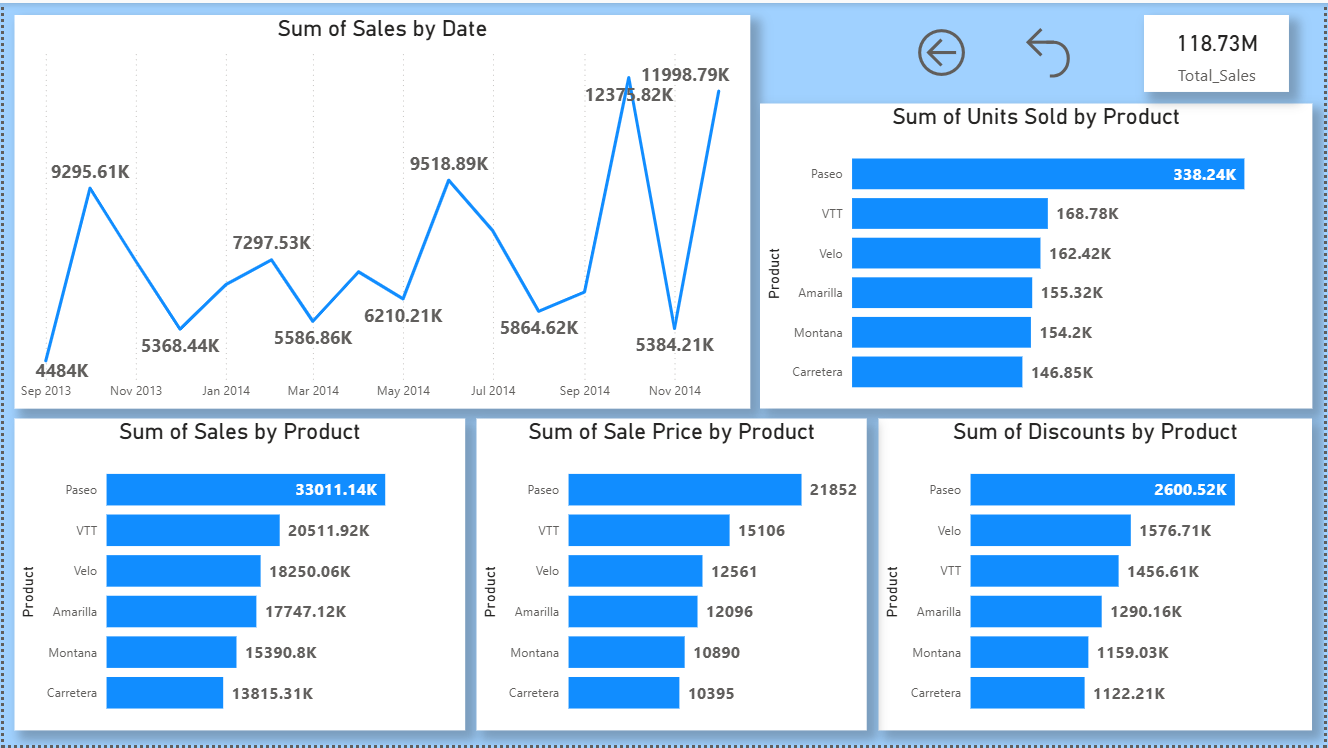

What the dashboard file says about the page in this screenshot:
{"tool":"powerbi","page":{"name":"drill through","canvas":[1280,720],"ordinal":1},"visuals":[{"type":"lineChart","fields":{"Category":["financials.Date"],"Y":["Sum(financials. Sales)"]},"box":[9.7,11.3,714.1,382.1],"z":0},{"type":"barChart","fields":{"Category":["financials.Product"],"Y":["Sum(financials. Sales)"]},"box":[9.7,403.2,437.2,302.8],"z":1},{"type":"barChart","fields":{"Category":["financials.Product"],"Y":["Sum(financials.Units Sold)"]},"box":[733.5,97.2,536,296.3],"z":2},{"type":"barChart","fields":{"Category":["financials.Product"],"Y":["Sum(financials.Discounts)"]},"box":[848.5,403.2,421,302.8],"z":3},{"type":"card","fields":{"Values":["financials.Total_Sales"]},"box":[1105.9,11.3,140.9,74.5],"z":4},{"type":"barChart","fields":{"Category":["financials.Product"],"Y":["Sum(financials.Sale Price)"]},"box":[458.2,403.2,378.9,302.8],"z":5},{"type":"actionButton","box":[880.9,19.4,79.3,58.3],"z":6},{"type":"actionButton","box":[982.9,17.8,98.8,61.5],"z":7}]}

Visuals, with their boxes in screenshot pixels (x1, y1, x2, y2), scaled from the page's 1280x720 canvas onto the 1328x748 screenshot:
lineChart - financials.Date x Sum(financials. Sales): x1=10 y1=12 x2=751 y2=409
barChart - financials.Product x Sum(financials. Sales): x1=10 y1=419 x2=464 y2=733
barChart - financials.Product x Sum(financials.Units Sold): x1=761 y1=101 x2=1317 y2=409
barChart - financials.Product x Sum(financials.Discounts): x1=880 y1=419 x2=1317 y2=733
card - financials.Total_Sales: x1=1147 y1=12 x2=1294 y2=89
barChart - financials.Product x Sum(financials.Sale Price): x1=475 y1=419 x2=868 y2=733
actionButton: x1=914 y1=20 x2=996 y2=81
actionButton: x1=1020 y1=18 x2=1122 y2=82
